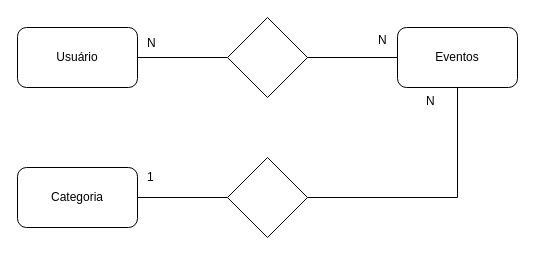
Image size: 535x255. Some labels were removed from this diagram. The shapes that lost their labels are listed below. From the top down, each one's centre as x and y in pixels, then its label:
the point at 267,57: PT
the point at 267,197: CT
